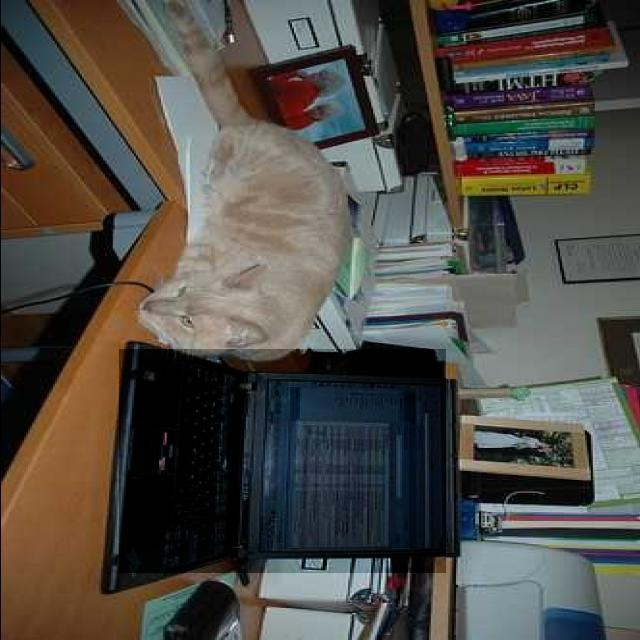-keyboard-: (119, 350, 446, 574)
